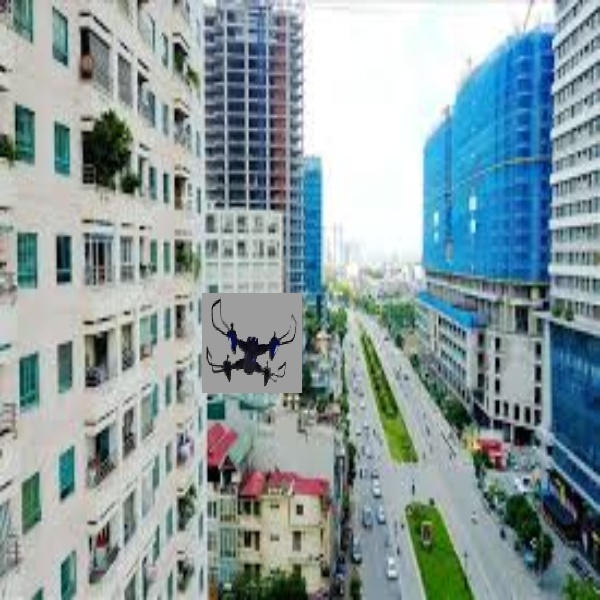drone: (201, 290, 297, 386)
